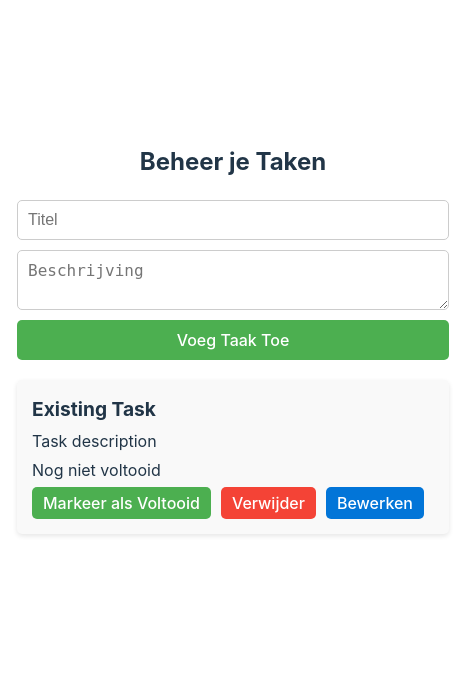
Test case: should edit a task
Expected: the heading "Existing Task" is shown, [32,397,156,421]
Find and click the edit button for the task
Step 1. Click the button "Bewerken" → (375, 503), box [326,487,424,519]
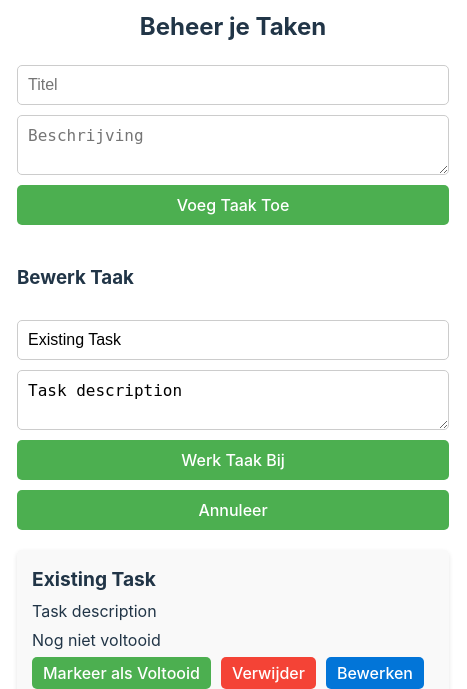
Change the values in the input fields
Step 2. Replace the text in the field with placeholder "Titel" with "Updated Task" → (233, 340), box [17,320,449,360]
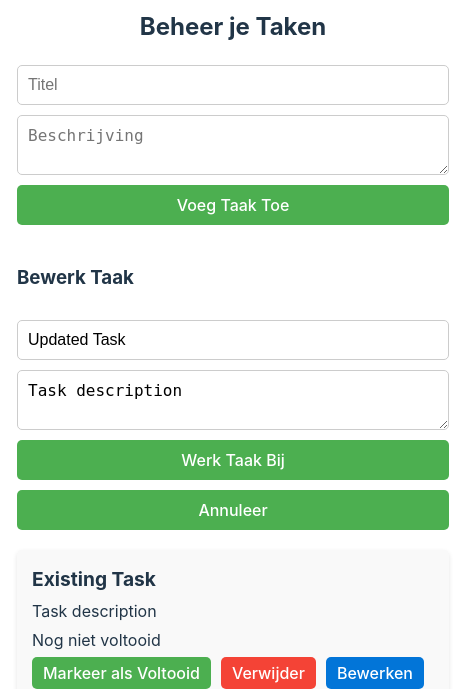
Step 3. Replace the text in the text box with placeholder "Beschrijving" with "Updated description" → (233, 400), box [17,370,449,430]
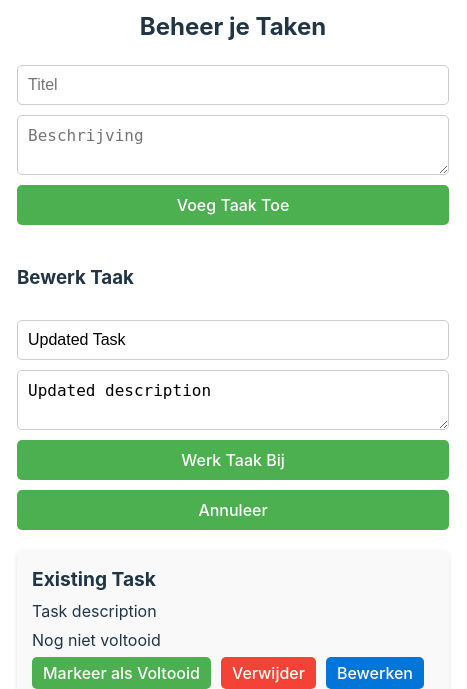
Click the "Werk Taak Bij" button to update the task
Step 4. Click the button "Werk Taak Bij" → (233, 460), box [17,440,449,480]
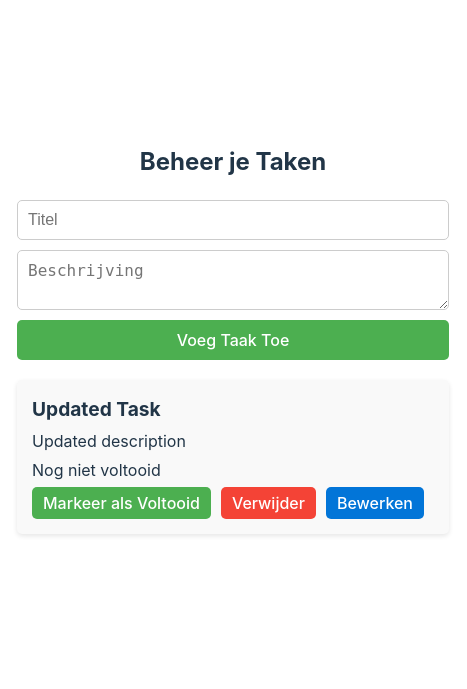
Expected: the heading "Updated Task" is shown, [32,397,161,421]
Expected: the text "Updated description" is shown, [32,431,186,451]
